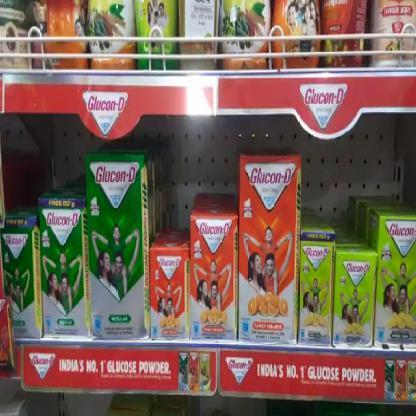Glucon D Nimbu Pani 1-KG: (376, 215, 416, 342)
Glucon D Regular 1-KG: (88, 163, 146, 339), (40, 202, 86, 338)
Glucon D Tangy orange 1-KG: (239, 158, 296, 336), (190, 214, 236, 340)
